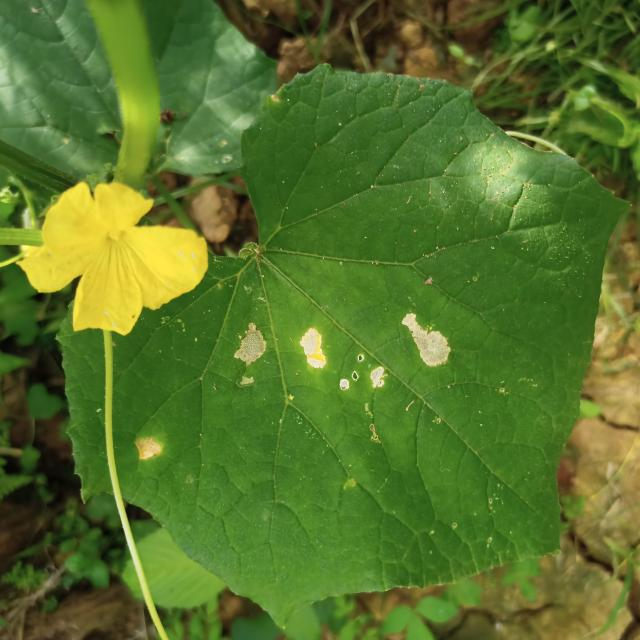disease_cucumber: (236, 312, 452, 390), (134, 433, 164, 462)
